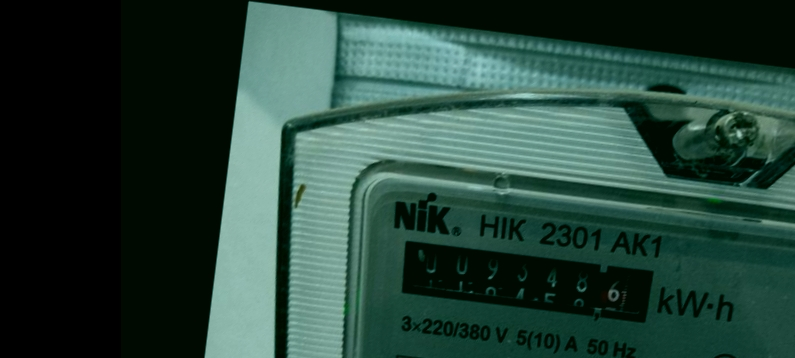0: (424, 247, 440, 274), (454, 251, 472, 275)
3: (514, 257, 532, 285)
4: (544, 261, 561, 289)
6: (605, 275, 625, 304)
8: (574, 266, 592, 295)
9: (484, 254, 502, 282)
screen: (389, 231, 665, 333)
